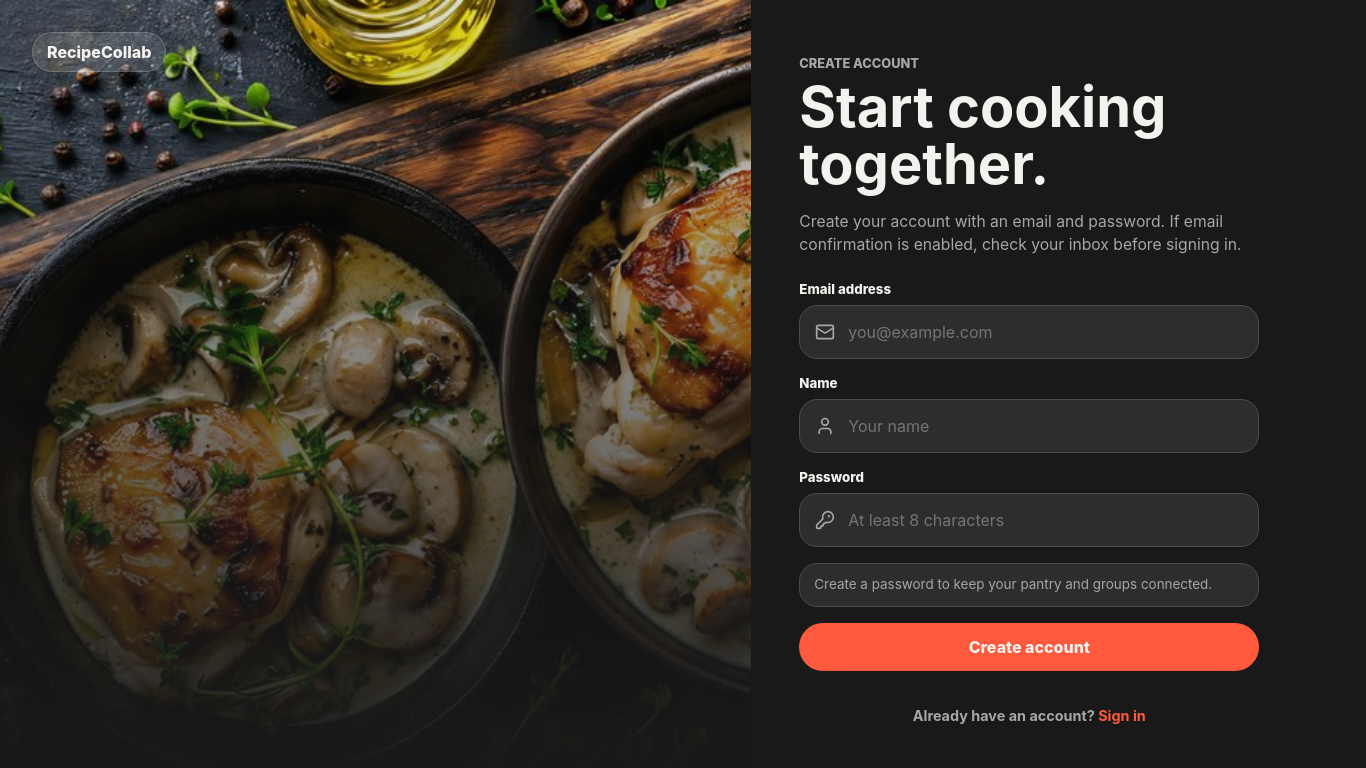
Test: SignInPage password auth flow › shows a generic confirmation-or-sign-in message when signup requires email confirmation
In the field labelled "Email address": (1029, 332) [799,305,1259,359], type "kartik@example.com"
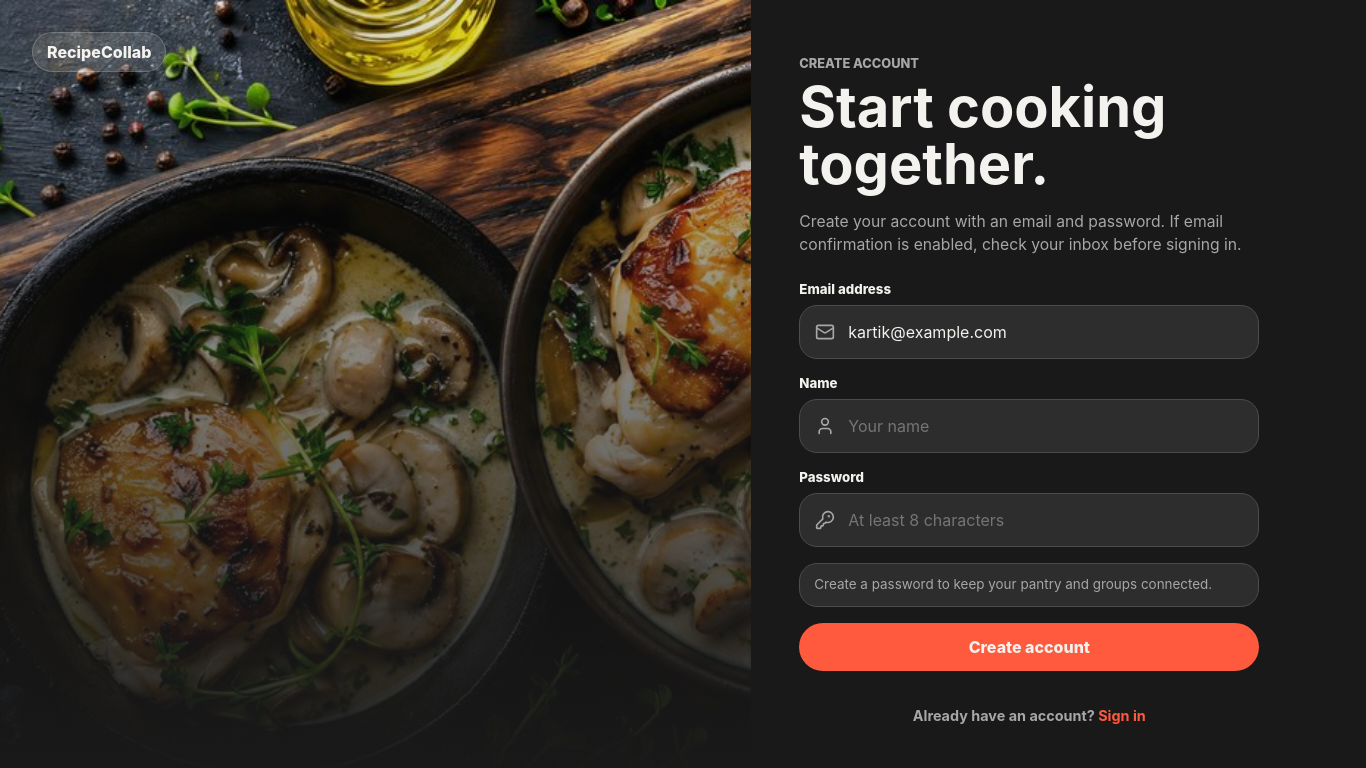
In the field labelled "Name": (1029, 426) [799,399,1259,453], type "Kartik"
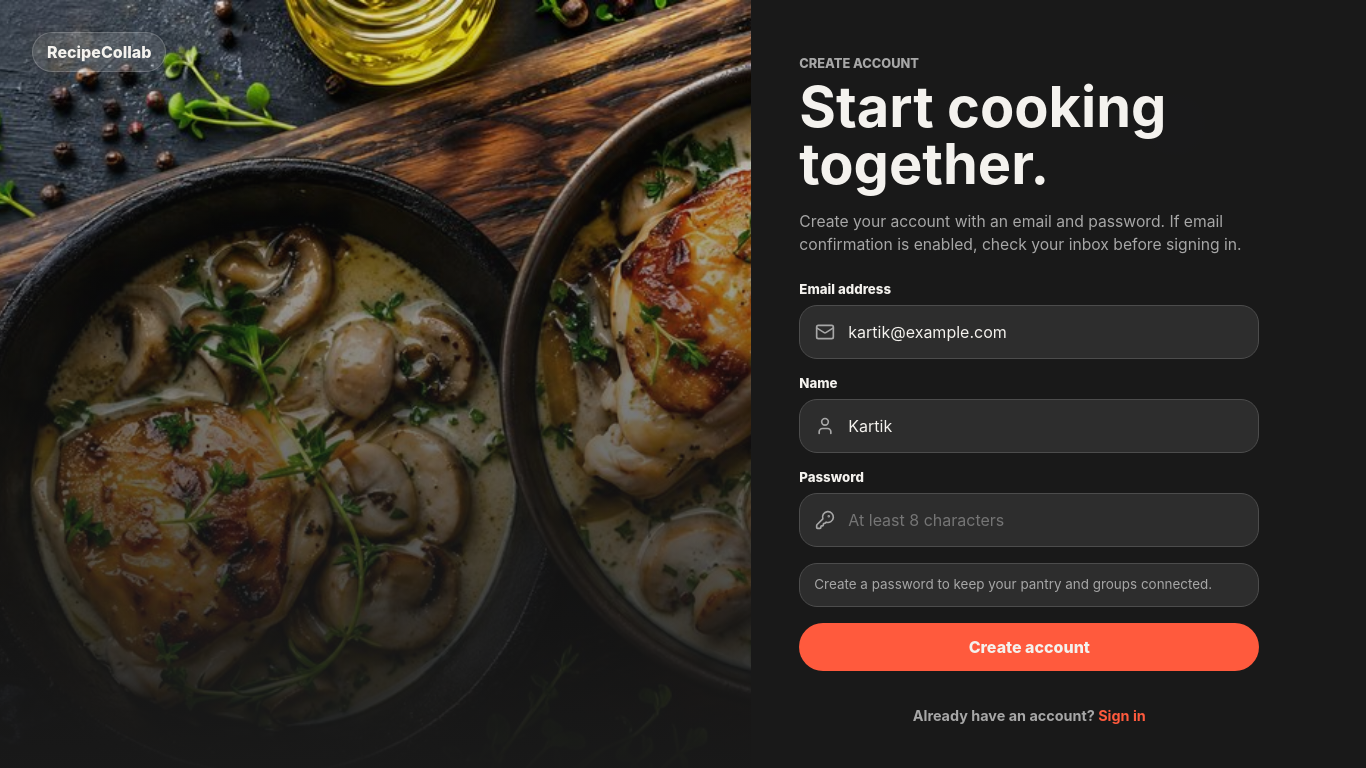
In the password field labelled "Password": (1029, 520) [799,493,1259,547], type "correct-horse"
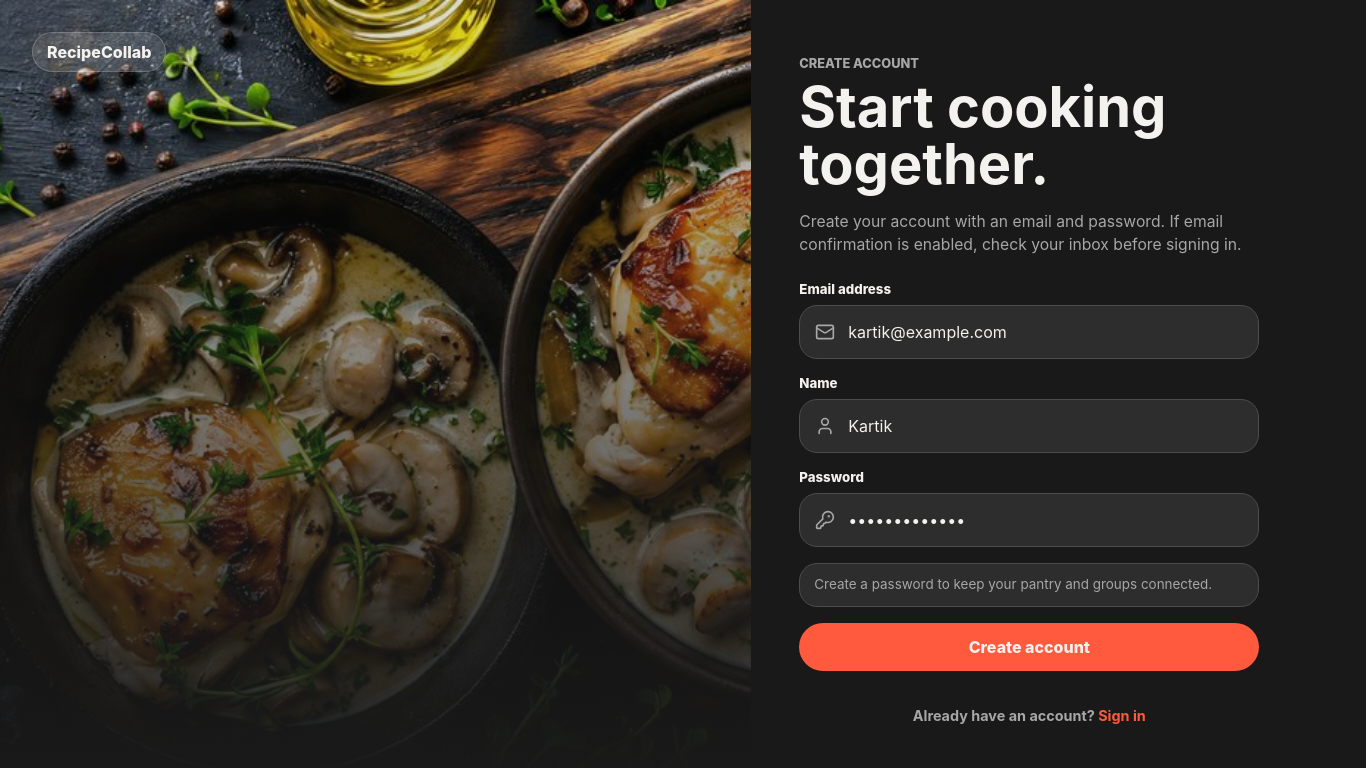
Click the button "Create account": click(1029, 647) [799,623,1259,671]
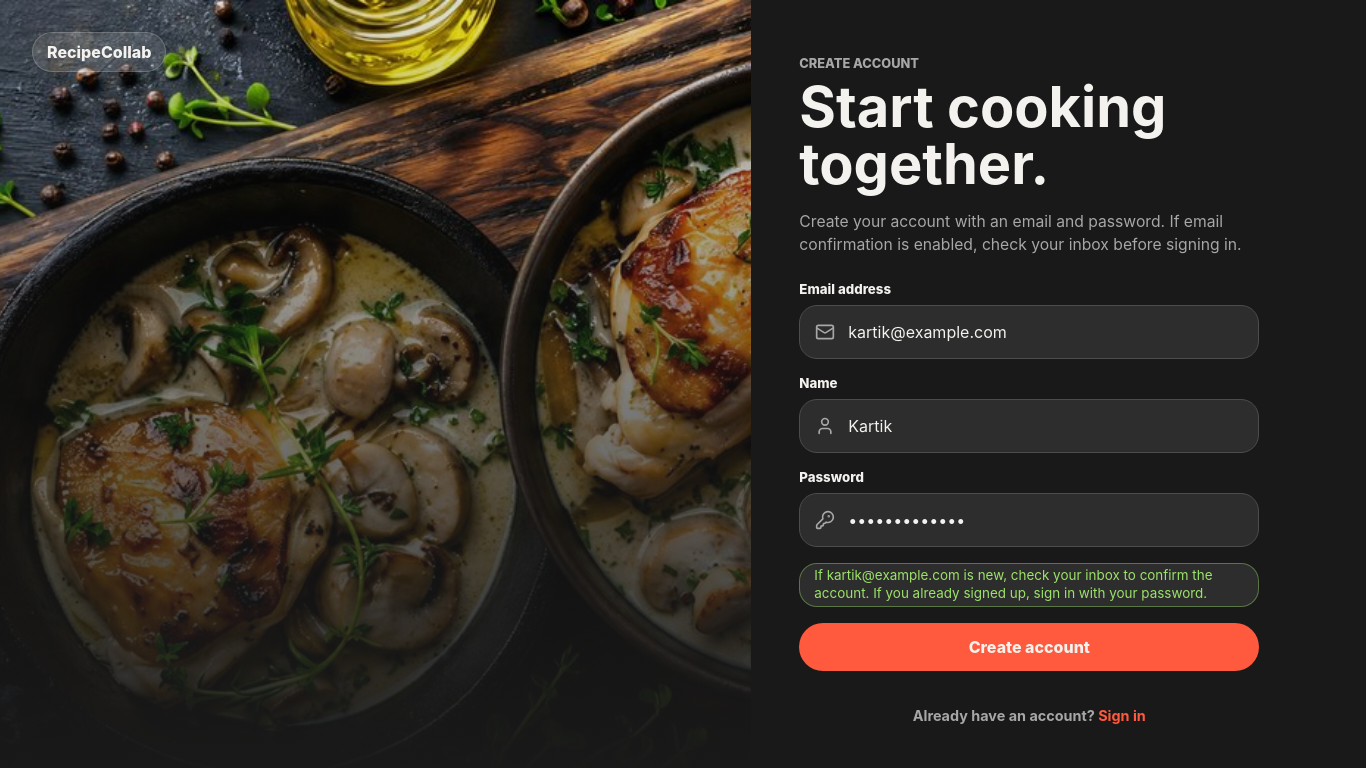
Check: the text "sign in with your password" is shown, box [814,567,1212,601]
Check: the text "groups" is gone
